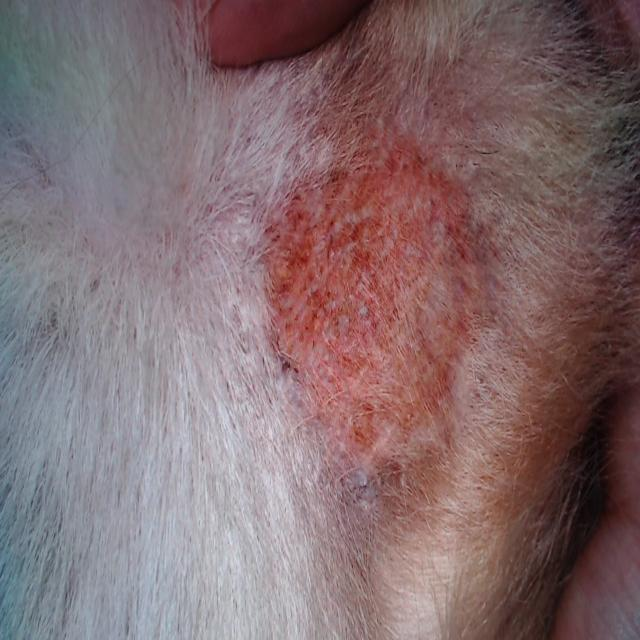ringworm: (257, 133, 491, 445)
